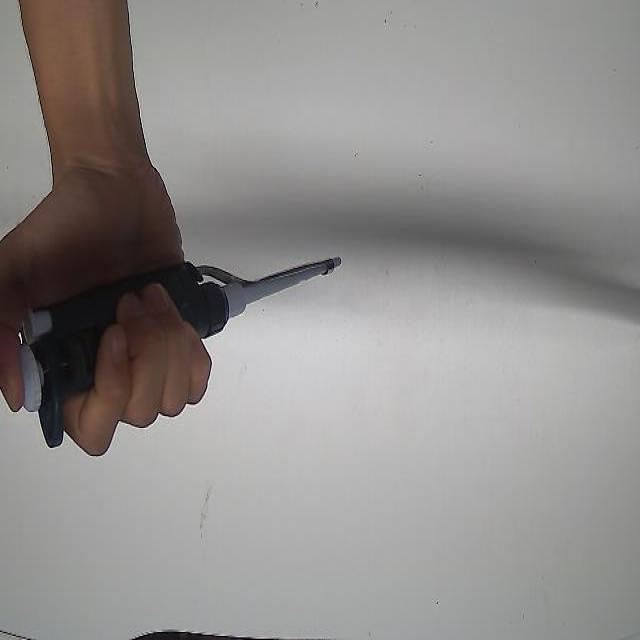Single Channel Pipettor: (19, 252, 344, 450)
